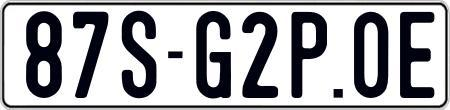0: (351, 9, 390, 101)
2: (240, 11, 279, 103)
7: (70, 11, 107, 98)
8: (25, 8, 62, 99)
E: (398, 10, 435, 99)
G: (196, 8, 231, 100)
P: (291, 10, 328, 96)
S: (122, 10, 161, 103)
